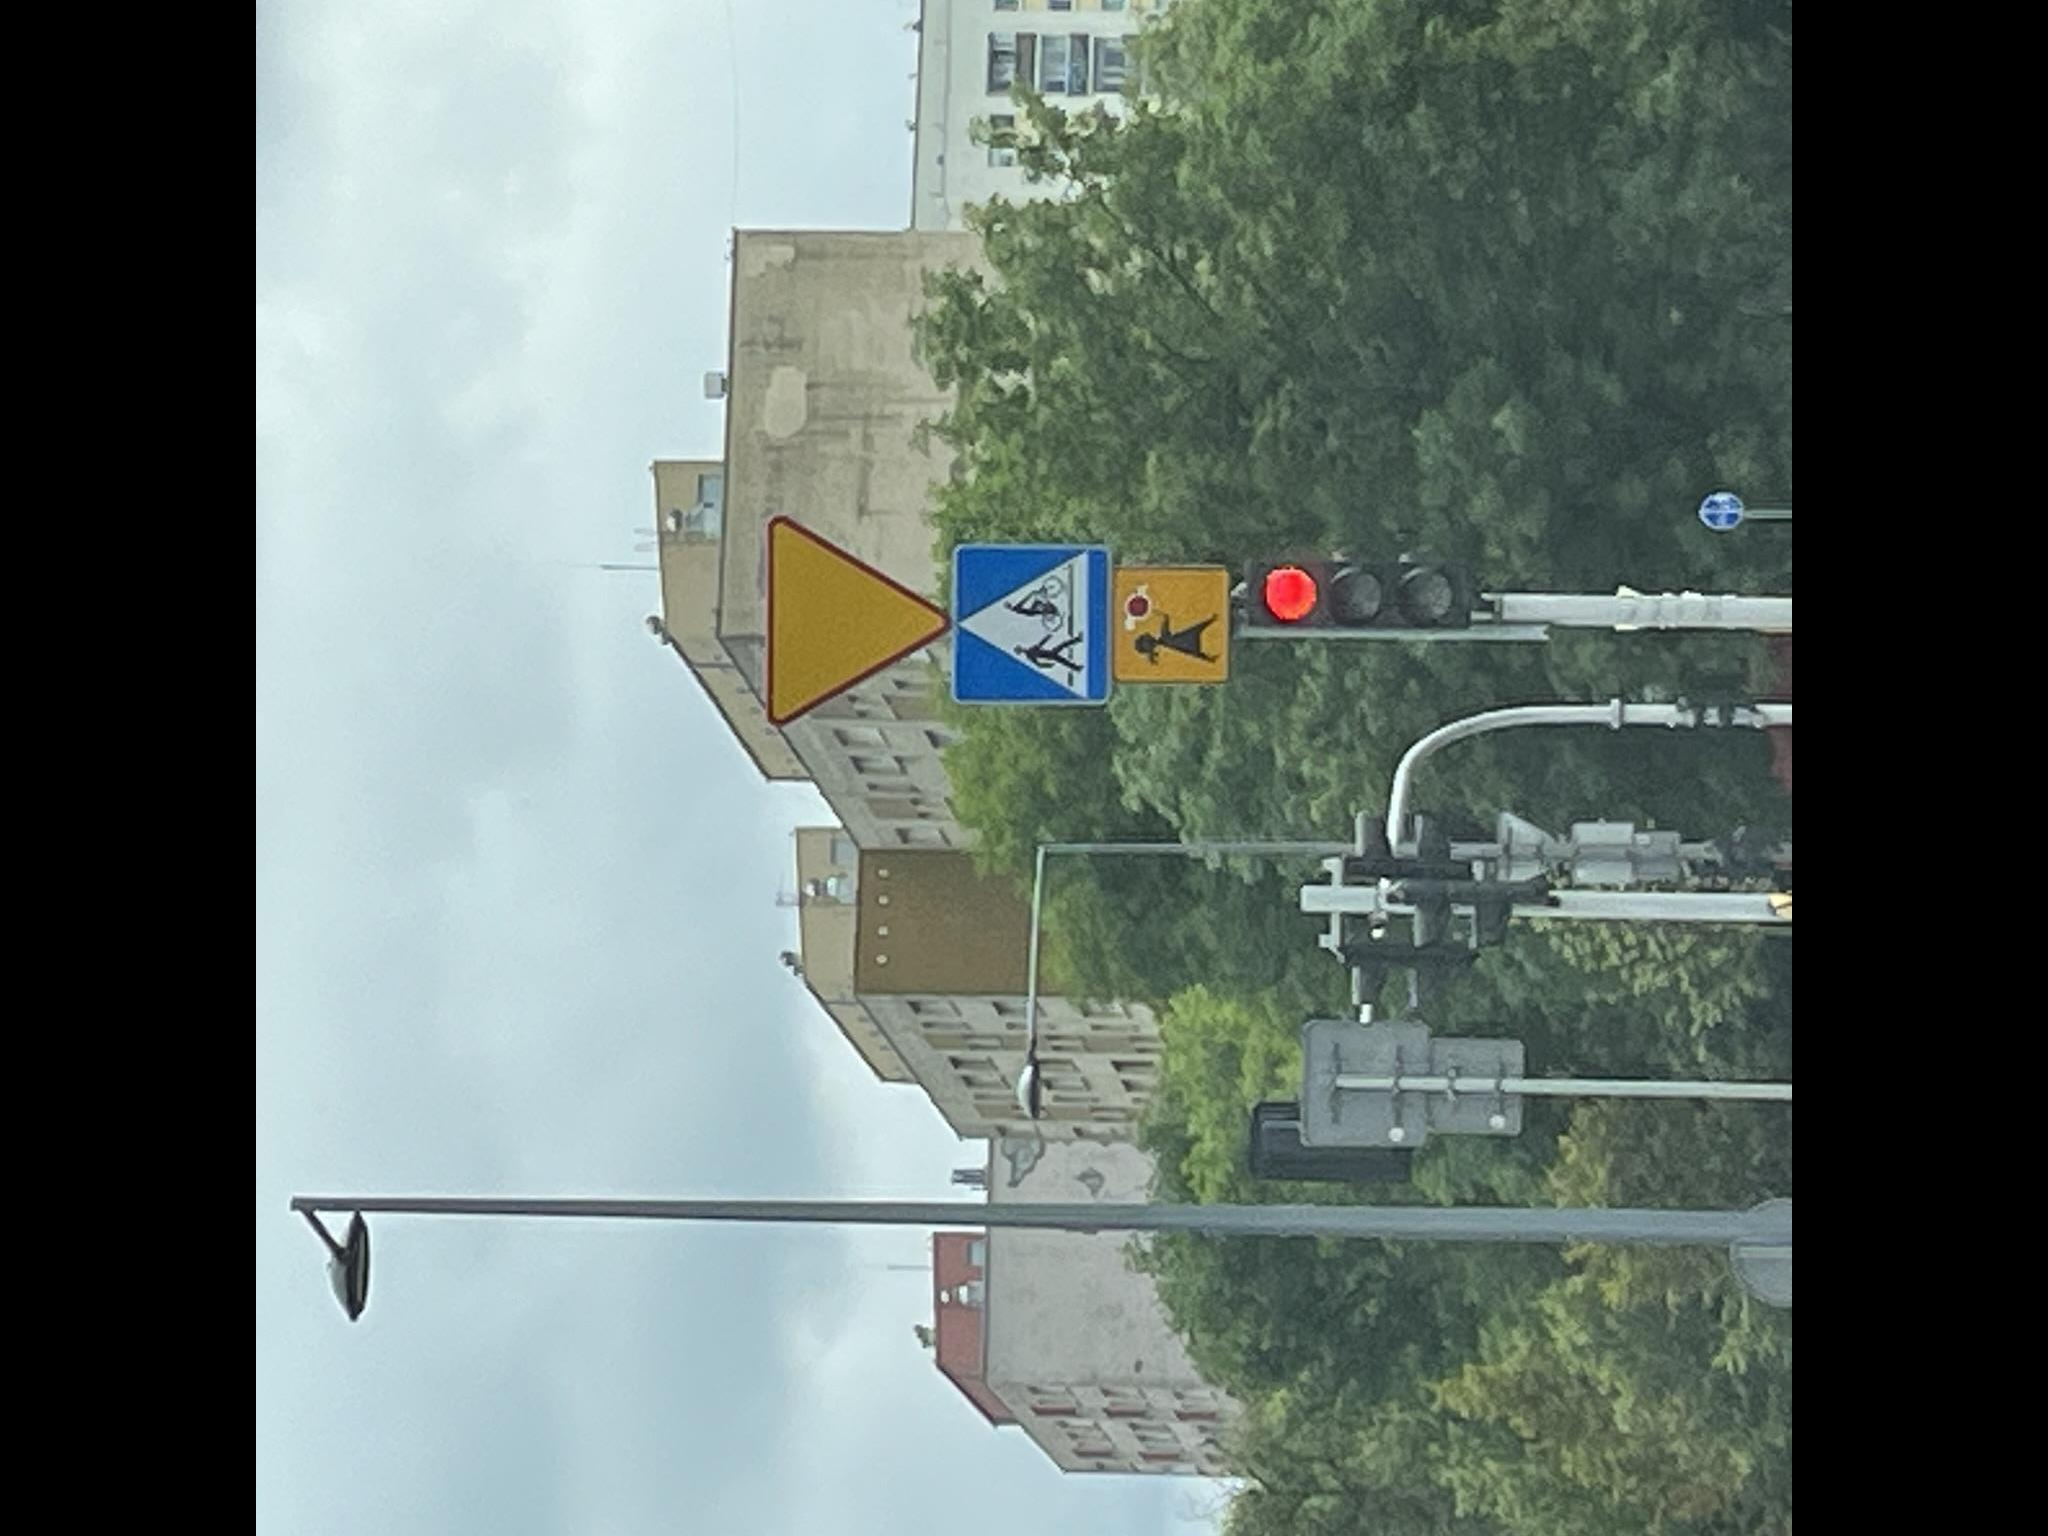information: (948, 541, 1113, 703)
mandatory: (1698, 492, 1750, 529)
other: (1116, 561, 1230, 687)
warning: (764, 515, 951, 728)
